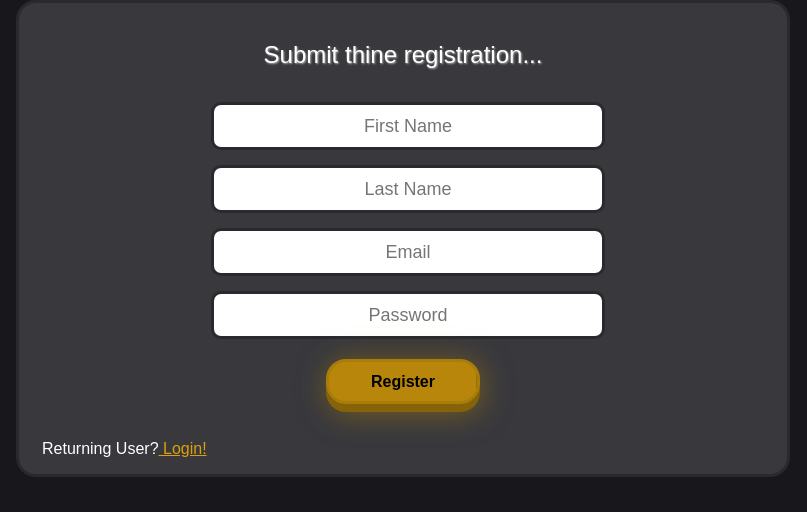
Test: Register Component › shows error when backend returns error
Type "John" into the field with placeholder "First Name". click: (408,126)
box: [211,102,605,150]
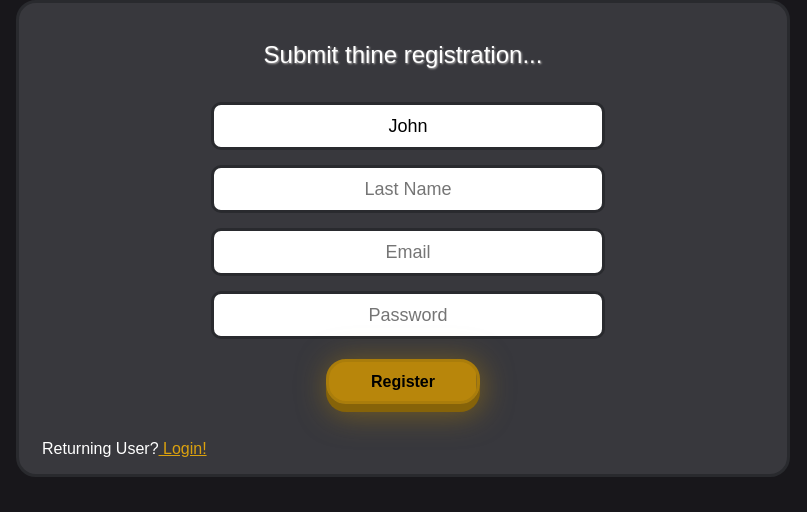
Type "Doe" into the field with placeholder "Last Name". click: (408,189)
box: [211,165,605,213]
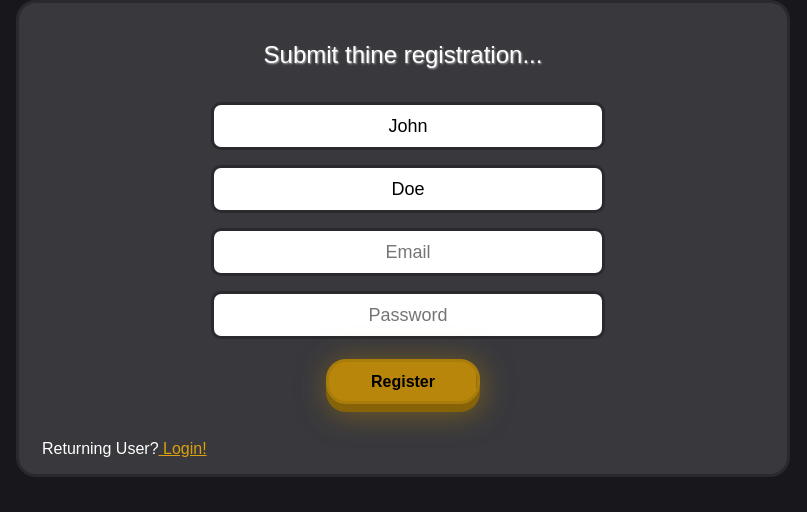
Type "existing@test.com" into the field with placeholder "Email". click: (408,252)
box: [211,228,605,276]
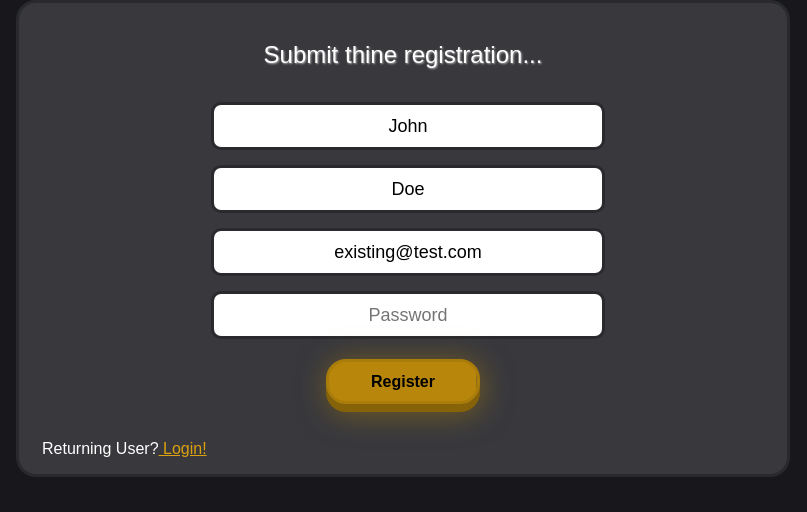
Type "password123" into the password field with placeholder "Password". click: (408,315)
box: [211,291,605,339]
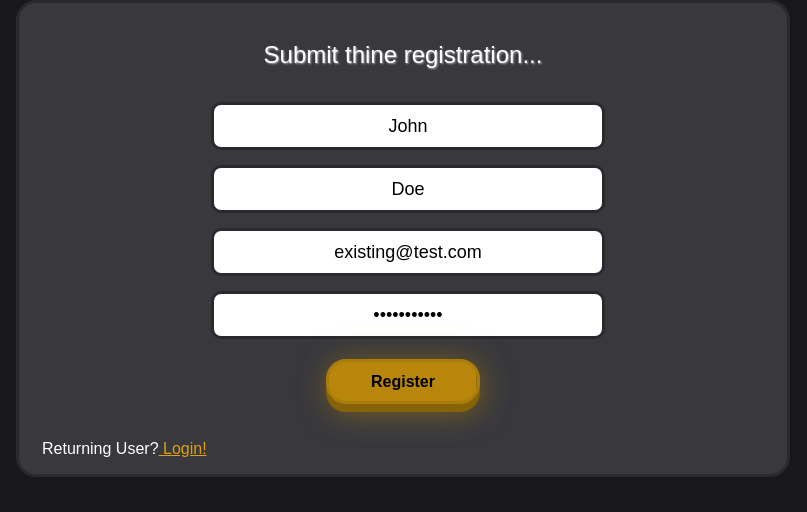
Click the button showing "Register". click: (403,382)
box: [326,359,480,404]
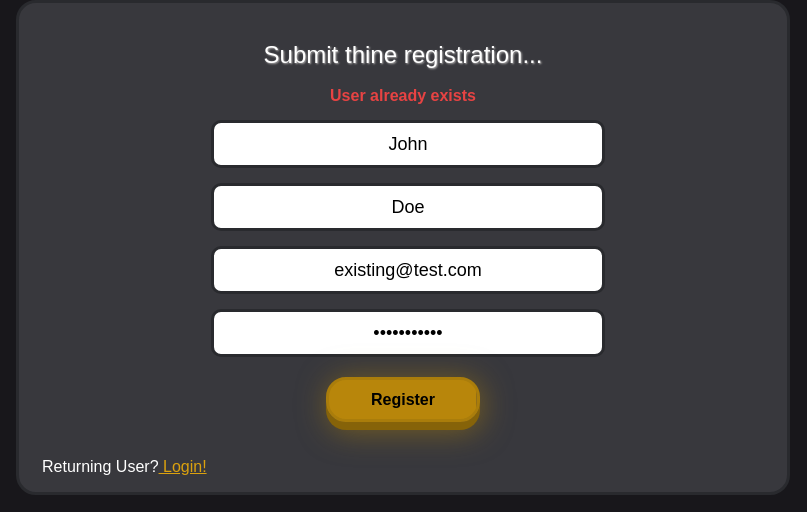
Now the text "User already exists" is shown, box [330,87,476,104]
